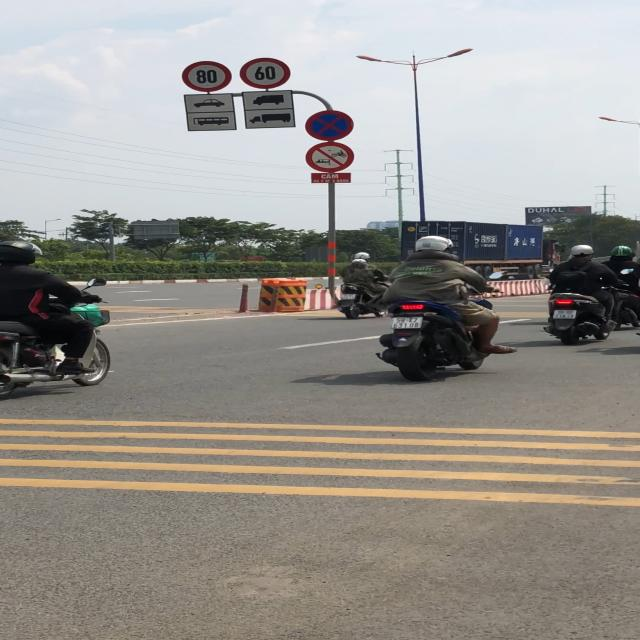Bien bao cam dung xe va do xe: (302, 109, 356, 142)
Bien bao toc do toi da cho phep: (176, 60, 238, 94), (238, 56, 295, 90)
